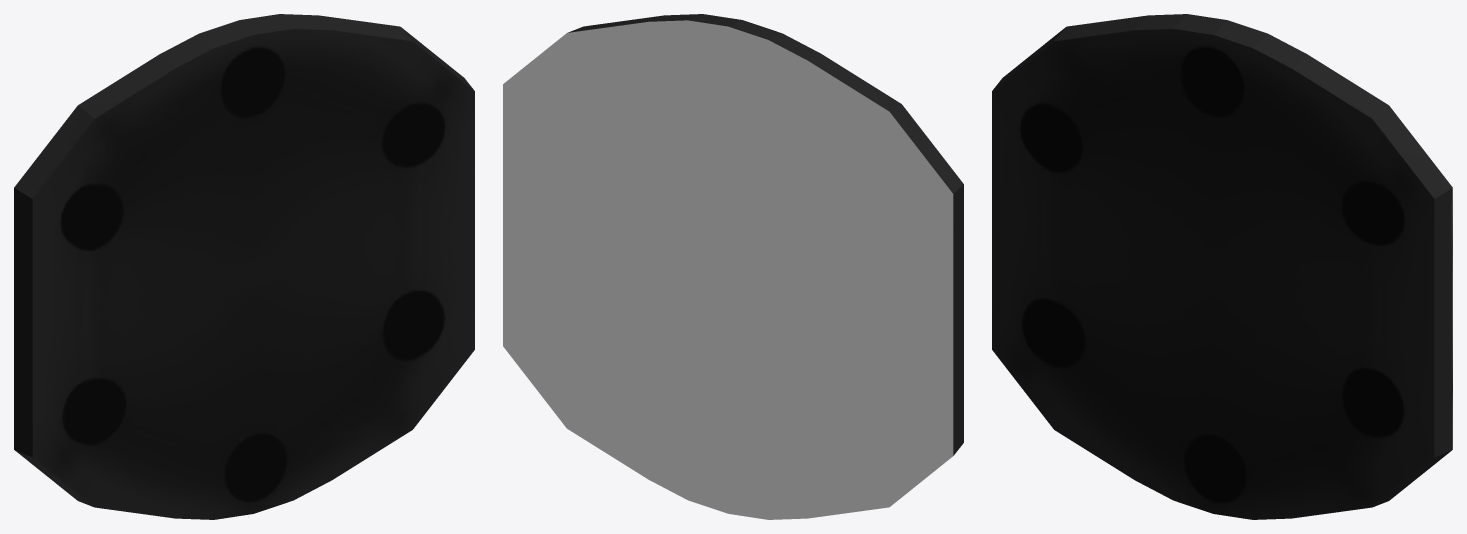
The model's file is PSPWhiteBoard.obj.
3 renders of one model, left to right at view 1: azimuth 30°, elevation 25°; view 2: azimuth 150°, elevation 25°; view 3: azimuth 330°, elevation 25°, orthographic.
Visible parts, largest first — view 1: Instruments_Cylinder.053; view 2: Instruments_Cylinder.053; view 3: Instruments_Cylinder.053.
Part boxes in pixels (<box>): Instruments_Cylinder.053: <box>14,14,474,519</box>; Instruments_Cylinder.053: <box>503,14,963,519</box>; Instruments_Cylinder.053: <box>992,14,1452,519</box>.
Bounding box in the file's own units: 2.25 × 2.34 × 0.1257.
